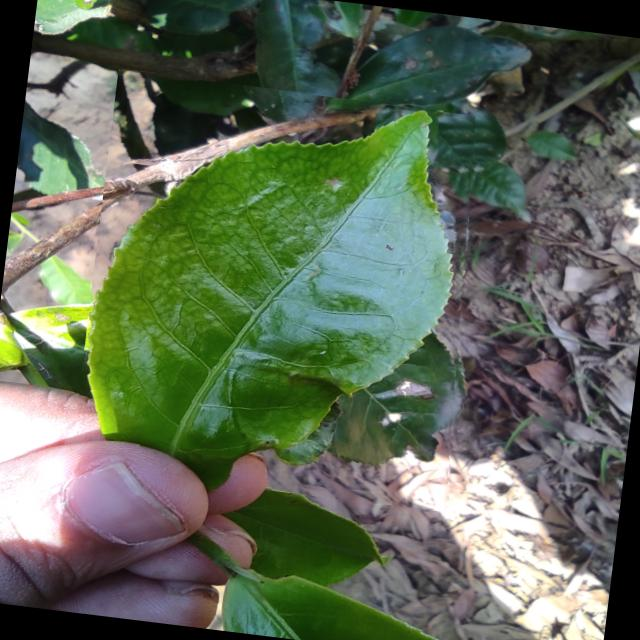Category B 2-4 days: (70, 68, 493, 510)
